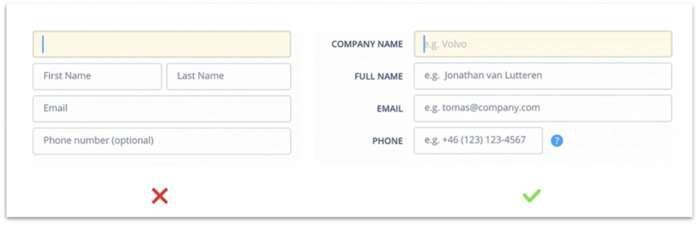_form_: (284, 1, 700, 232), (1, 1, 416, 232)
field: (409, 60, 672, 90), (410, 93, 673, 123), (412, 29, 672, 59), (32, 29, 292, 58), (31, 95, 291, 124), (31, 127, 294, 154), (412, 125, 545, 157), (165, 61, 292, 92), (32, 61, 163, 91)
